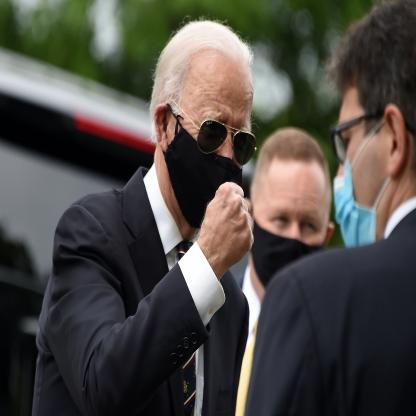Wearing_Mask: (169, 29, 250, 247), (330, 64, 393, 257), (250, 140, 328, 271)
